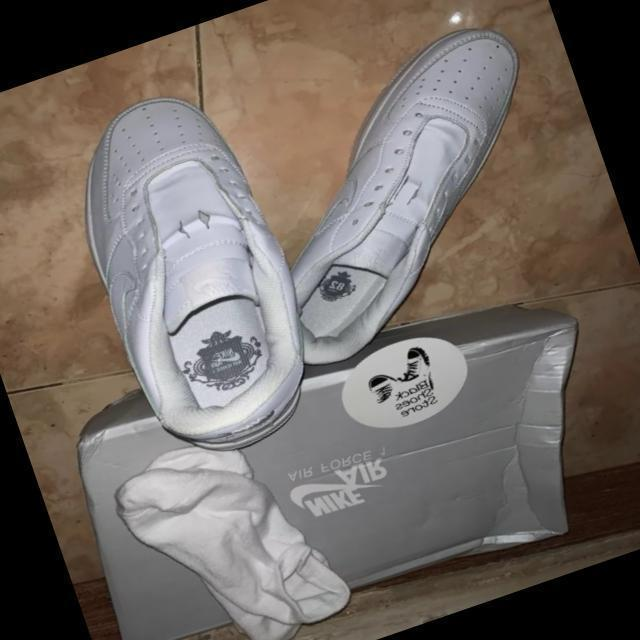nike fake air force: (196, 12, 594, 380), (45, 75, 338, 472)
